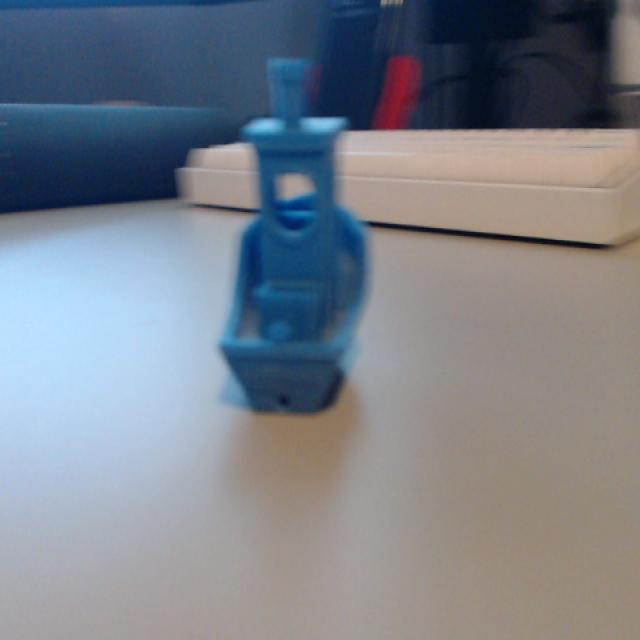benchy: (215, 53, 373, 416)
